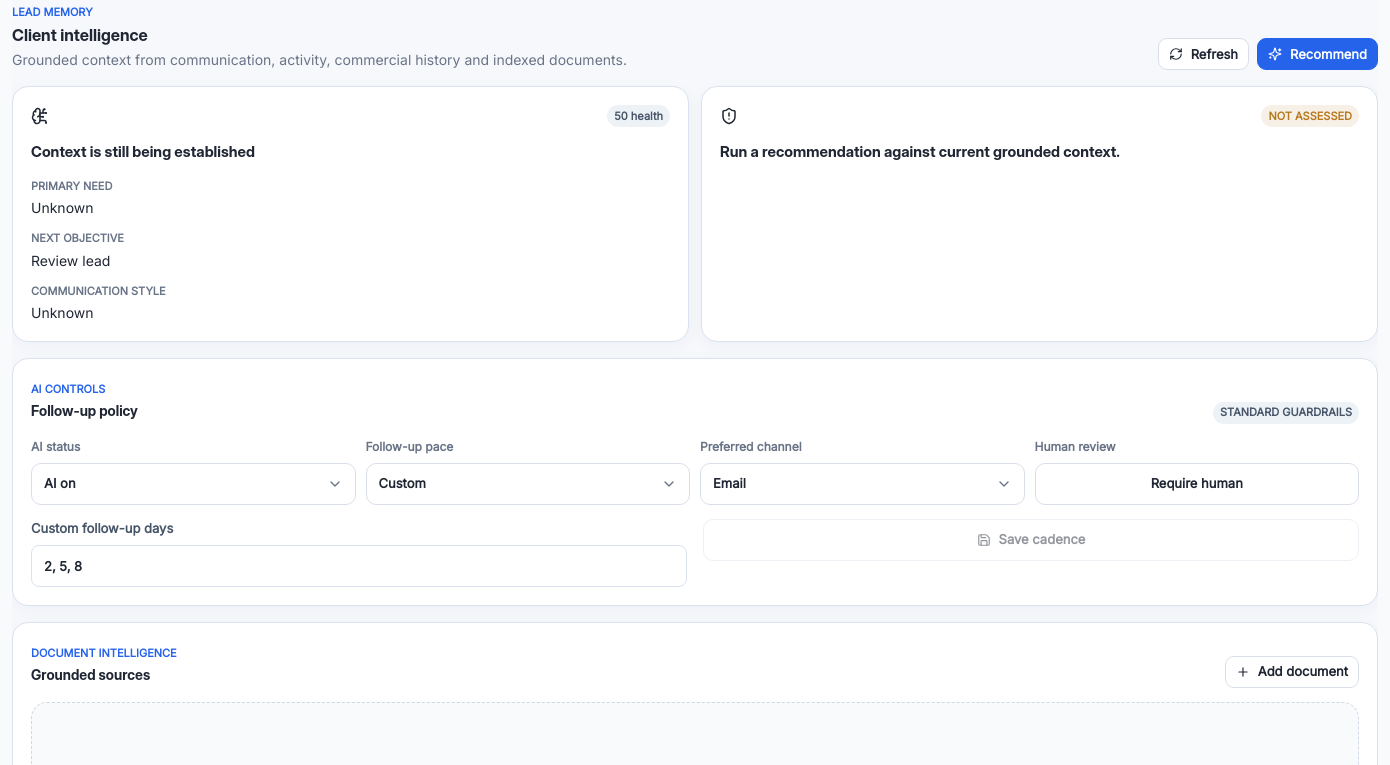
LeadIntelligencePanel custom cadence › rejects invalid custom days 0, 2 without an API mutation
The image size is (1390, 765).
In the field labelled "Custom follow-up days": (359, 566) [31,546,687,588], type "0, 2"
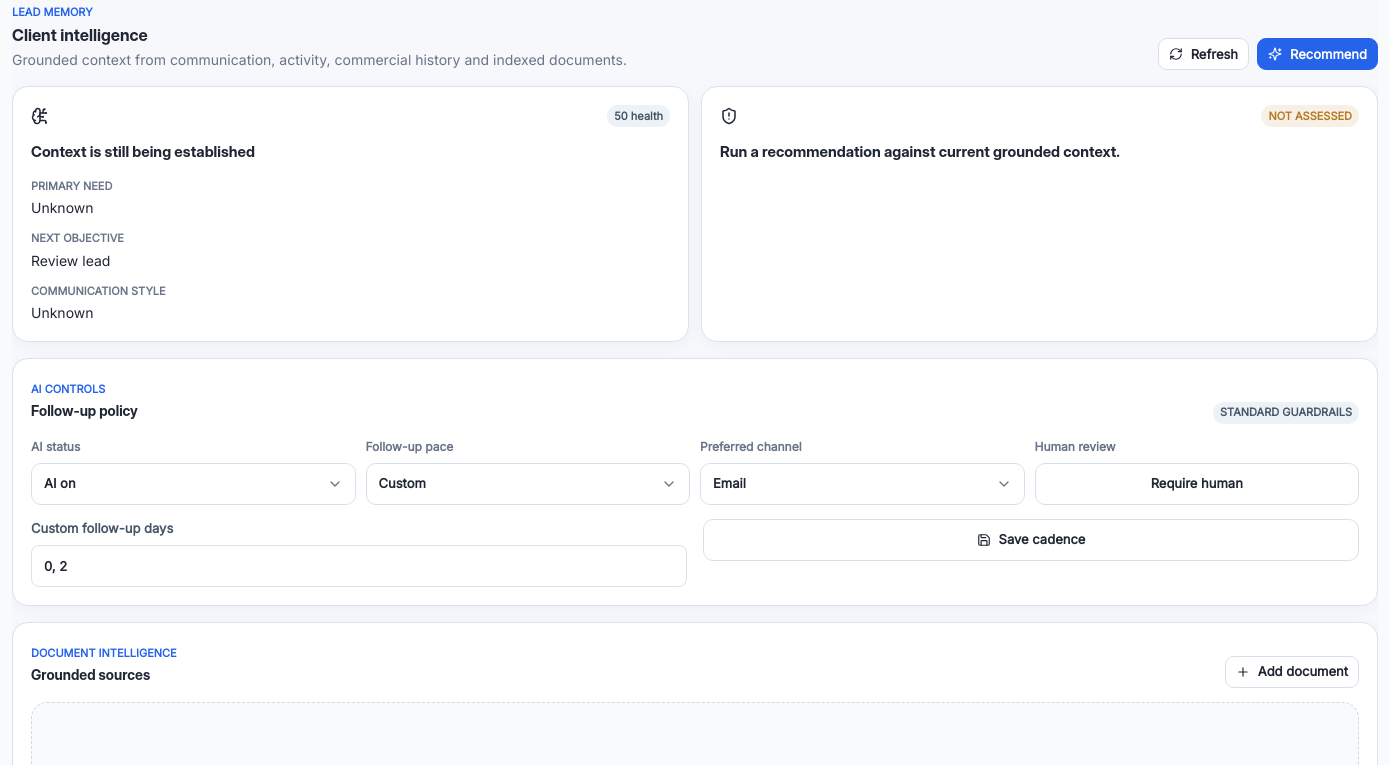
Click the button "Save cadence": (1031, 540) [703,519,1359,561]
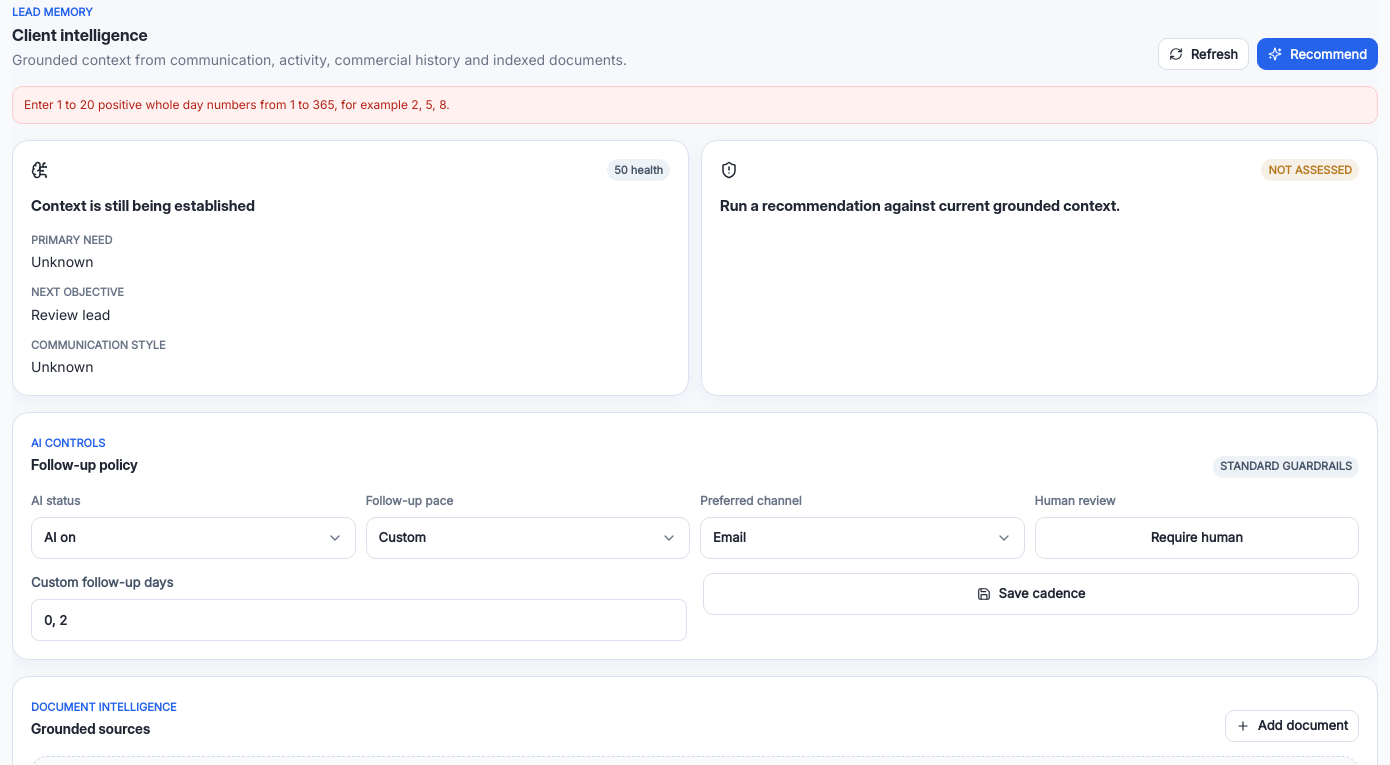
Check: the text "positive whole day numbers" is shown, box [24,98,450,112]
